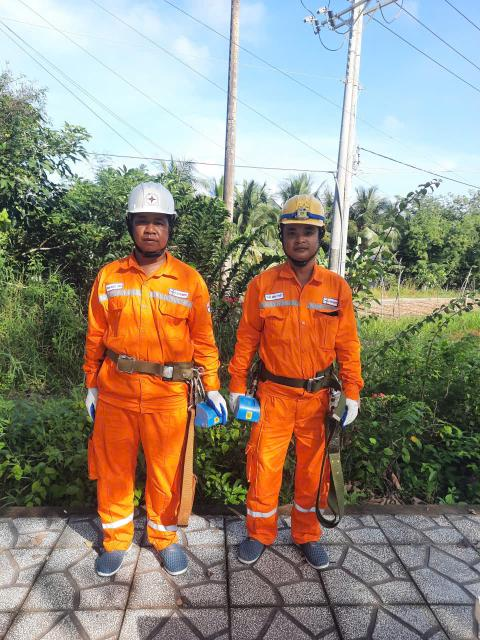gloves: (197, 384, 231, 428), (81, 387, 112, 428), (224, 387, 259, 423), (337, 393, 371, 430)
harness: (98, 339, 202, 390), (251, 358, 343, 402)
helmet: (253, 188, 344, 244), (116, 168, 192, 227)
shoes: (87, 535, 140, 586), (147, 529, 193, 576), (296, 530, 337, 576), (230, 531, 274, 570)
